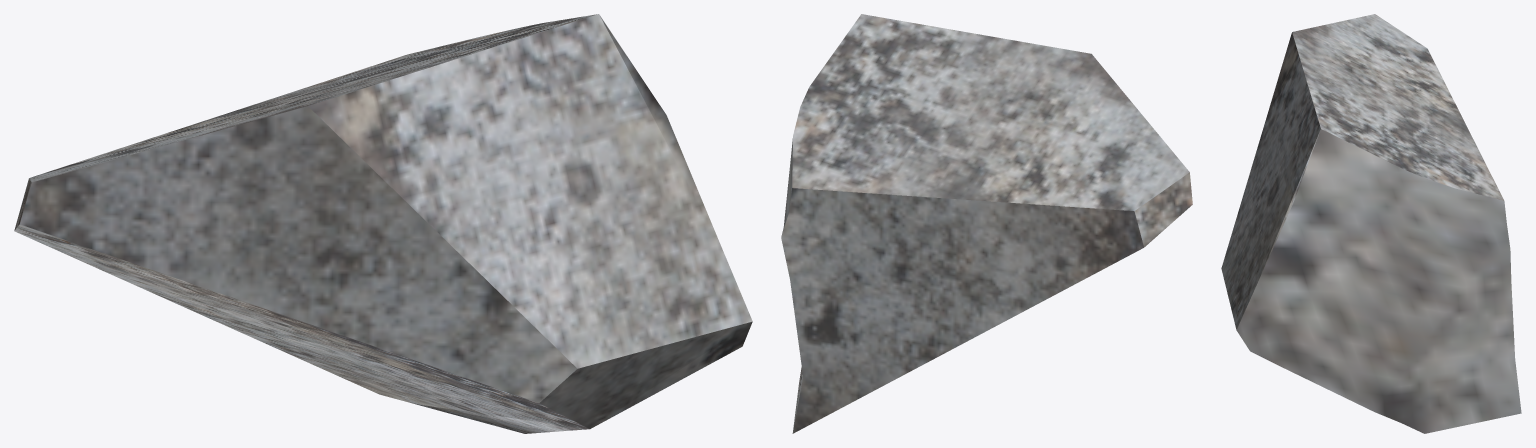
Rendered from Asteroid_Large_001_02_007_03_005.fbx.
3 views of the same model, side by side, from view 1: azimuth 30°, elevation 25°; view 2: azimuth 150°, elevation 25°; view 3: azimuth 270°, elevation 25° (orthographic). The views are drawn at different scales.
Visible parts, largest first — view 1: Asteroid_Large_001_02_007_03_005; view 2: Asteroid_Large_001_02_007_03_005; view 3: Asteroid_Large_001_02_007_03_005.
Part boxes in pixels (left/top/right/bottom): Asteroid_Large_001_02_007_03_005: left=14, top=14, right=752, bottom=433; Asteroid_Large_001_02_007_03_005: left=781, top=14, right=1192, bottom=433; Asteroid_Large_001_02_007_03_005: left=1221, top=14, right=1521, bottom=433.
Size of the model in its own units: 7.36 by 5.51 by 4.94.
